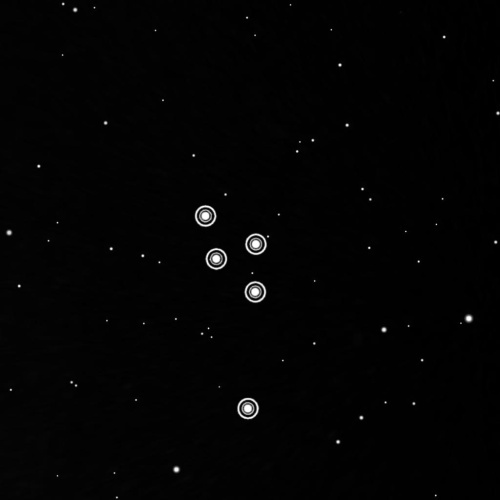delphinus: (187, 195, 275, 425)
